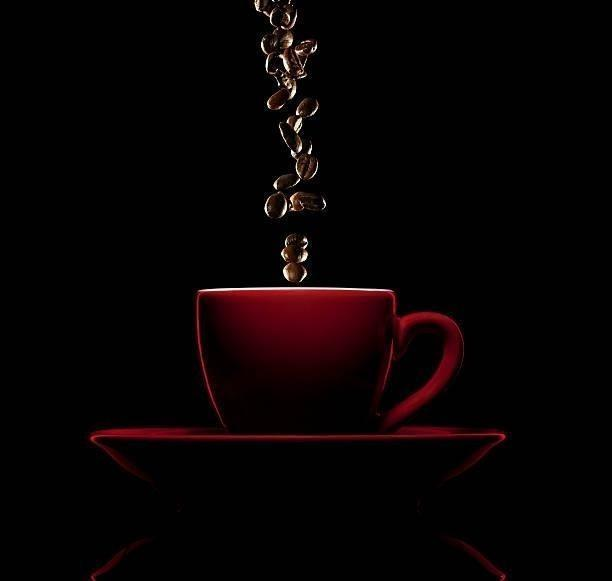cup-handle: (196, 285, 466, 436)
